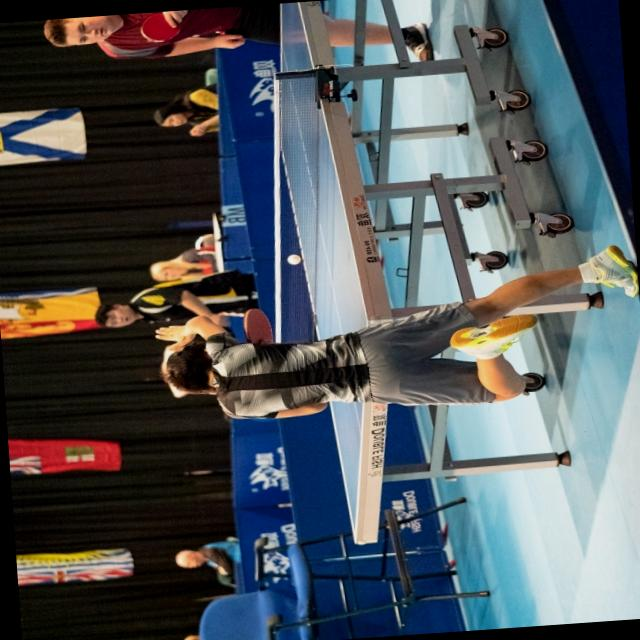TT Net: (270, 65, 330, 342)
TT Racket: (138, 10, 188, 45), (241, 306, 278, 350)
TT Table: (248, 0, 413, 534)
